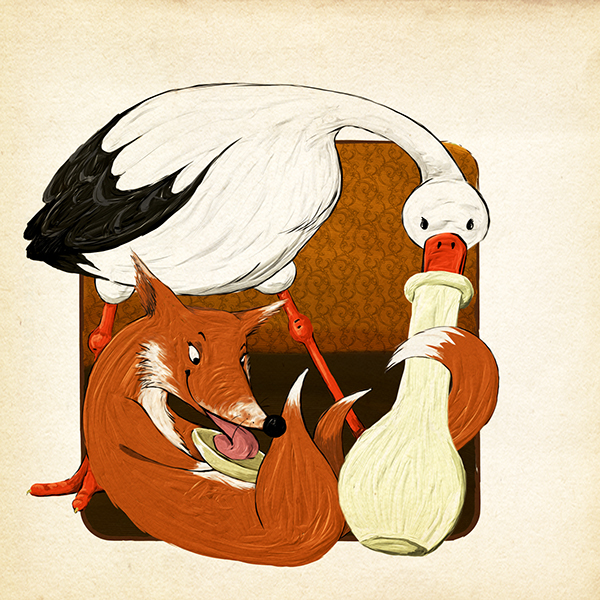bird: (21, 87, 451, 337)
dog: (61, 227, 366, 554)
